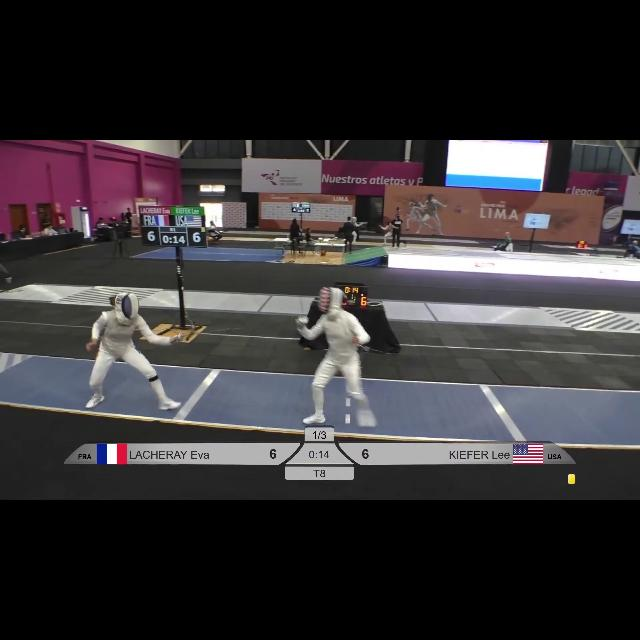blade: (176, 324, 254, 344), (294, 266, 312, 328)
